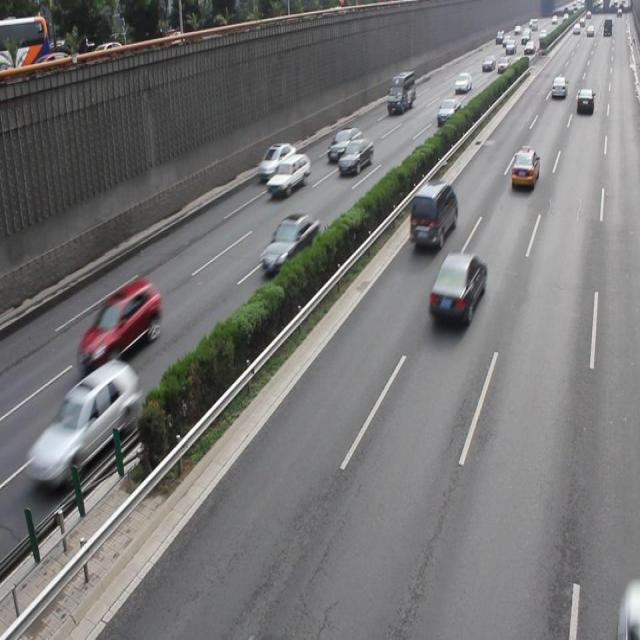car: (37, 360, 139, 482), (78, 279, 161, 370), (428, 250, 485, 322), (259, 211, 320, 275), (265, 153, 310, 195), (258, 142, 295, 180), (338, 136, 373, 174), (510, 148, 540, 190), (326, 126, 361, 162)
truck: (408, 178, 458, 248)
